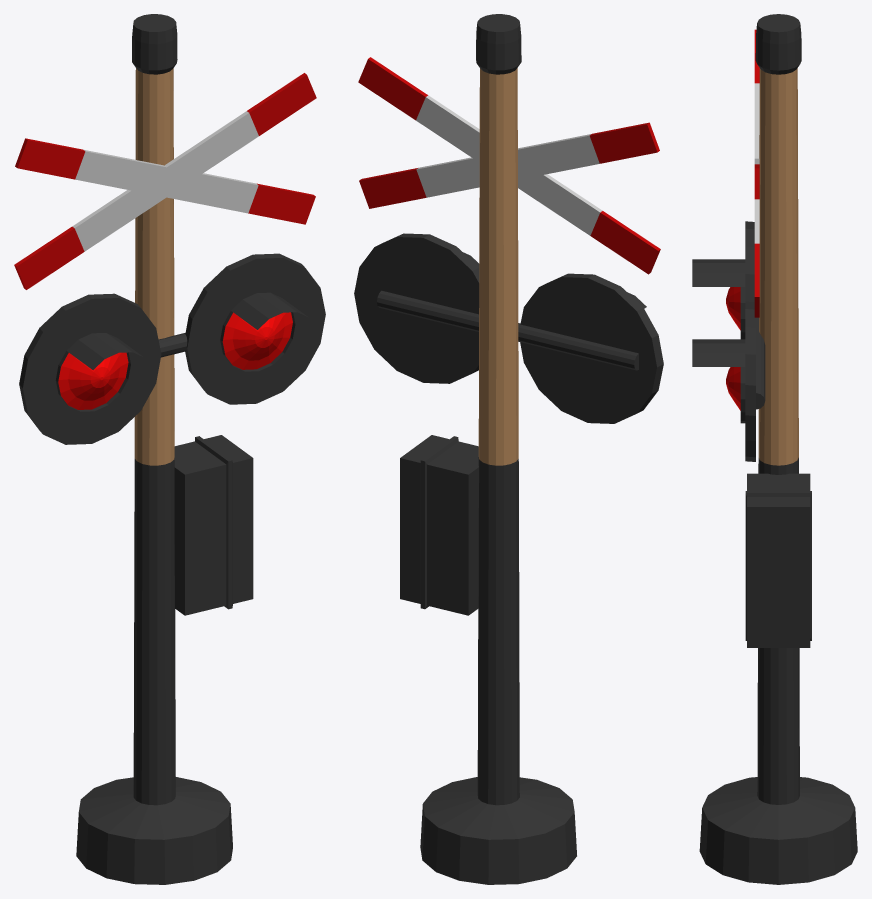
Rendered from TrainTrafficLight_Inversed.obj.
3 views of the same model, side by side, from view 1: azimuth 30°, elevation 25°; view 2: azimuth 150°, elevation 25°; view 3: azimuth 270°, elevation 25° (orthographic).
Parts seen in each view (by area): view 1: TrainLight_Inversed_Cube.003; view 2: TrainLight_Inversed_Cube.003; view 3: TrainLight_Inversed_Cube.003.
Part boxes in pixels (<box>): TrainLight_Inversed_Cube.003: <box>14,14,325,884</box>; TrainLight_Inversed_Cube.003: <box>354,14,663,884</box>; TrainLight_Inversed_Cube.003: <box>692,14,857,884</box>.
Bounding box in the file's own units: 1.55 × 4 × 0.7247.
